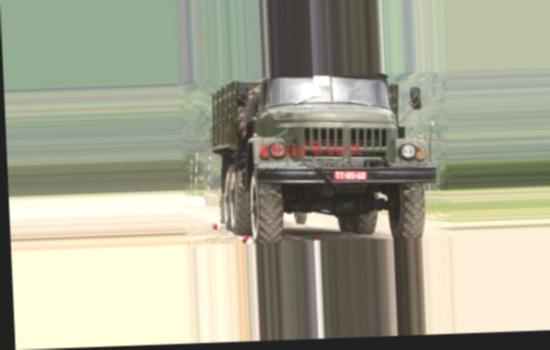License_Plate: (332, 169, 370, 183)
